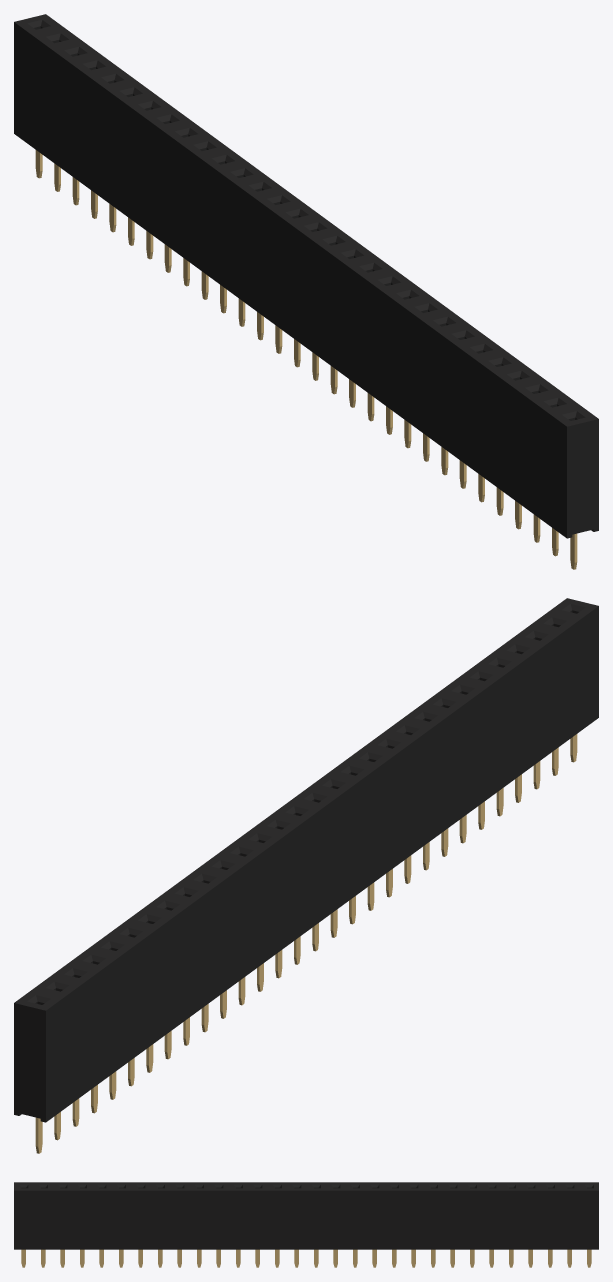
Rendered from kc-pinsocket_1x30_p2.54mm_vertical.glb.
3 renders of one model, top to bottom at view 1: azimuth 30°, elevation 25°; view 2: azimuth 150°, elevation 25°; view 3: azimuth 270°, elevation 25°, orthographic. The views are drawn at different scales.
Parts seen in each view (by area): view 1: 0_0_0_0, 0.75_0.5_0.25_0.9; view 2: 0_0_0_0, 0.75_0.5_0.25_0.9; view 3: 0_0_0_0, 0.75_0.5_0.25_0.9.
Part boxes in pixels (left/top/right/bottom): 0_0_0_0: left=14, top=14, right=598, bottom=538; 0.75_0.5_0.25_0.9: left=35, top=150, right=577, bottom=569; 0_0_0_0: left=14, top=598, right=598, bottom=1122; 0.75_0.5_0.25_0.9: left=35, top=734, right=577, bottom=1153; 0_0_0_0: left=14, top=1182, right=598, bottom=1249; 0.75_0.5_0.25_0.9: left=21, top=1249, right=591, bottom=1267.
Bounding box in the file's own units: 0.2539 × 1.16 × 7.62.
